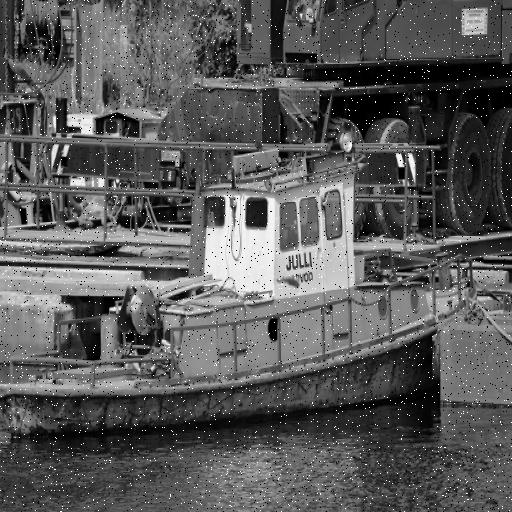tugboat: (1, 142, 449, 464)
